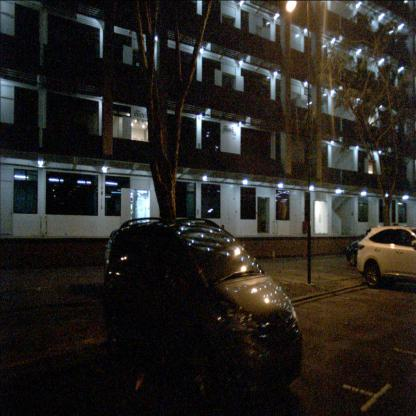vehicle-car: (105, 219, 303, 399), (356, 228, 416, 289), (346, 228, 390, 267)
